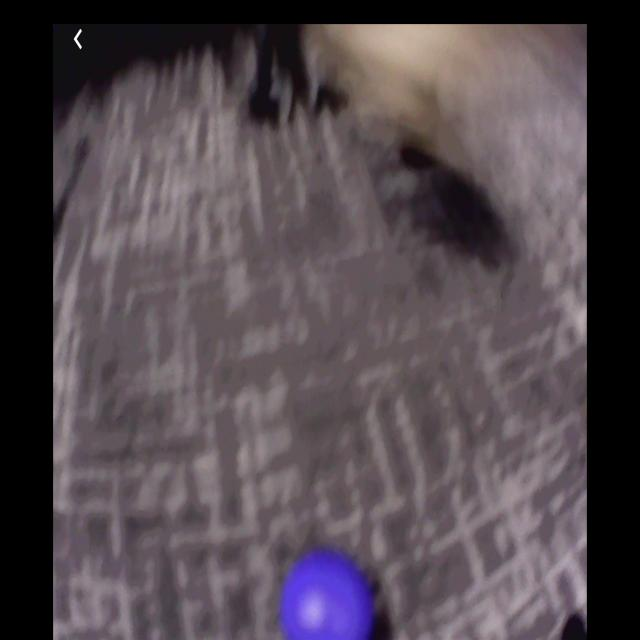ball: (282, 554, 375, 640)
